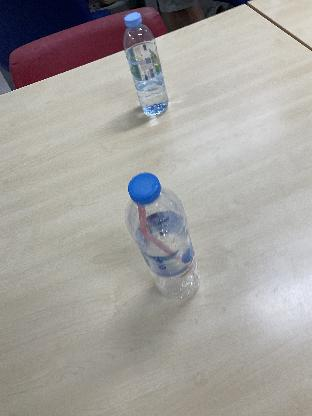Plastic Bottle: (124, 171, 200, 303), (123, 12, 169, 118)
